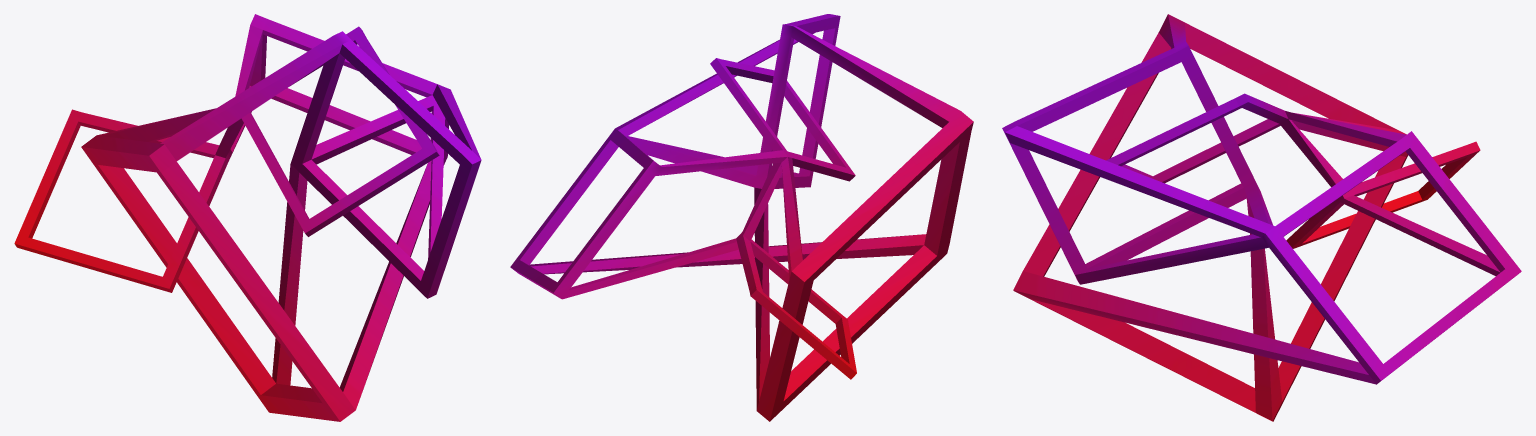
The picture shows the model from 3 angles, left to right: view 1: azimuth 30°, elevation 25°; view 2: azimuth 150°, elevation 25°; view 3: azimuth 270°, elevation 25°; orthographic projection. The views are drawn at different scales.
Visible parts, largest first — view 1: 1; view 2: 1; view 3: 1.
Part boxes in pixels (x1,y1,x2,y2): 1: [14, 14, 481, 421]; 1: [510, 14, 973, 421]; 1: [1002, 14, 1521, 421].
Bounding box in the file's own units: 11.28 × 10.65 × 12.87.
Materials: 1 (1 with a texture image).
